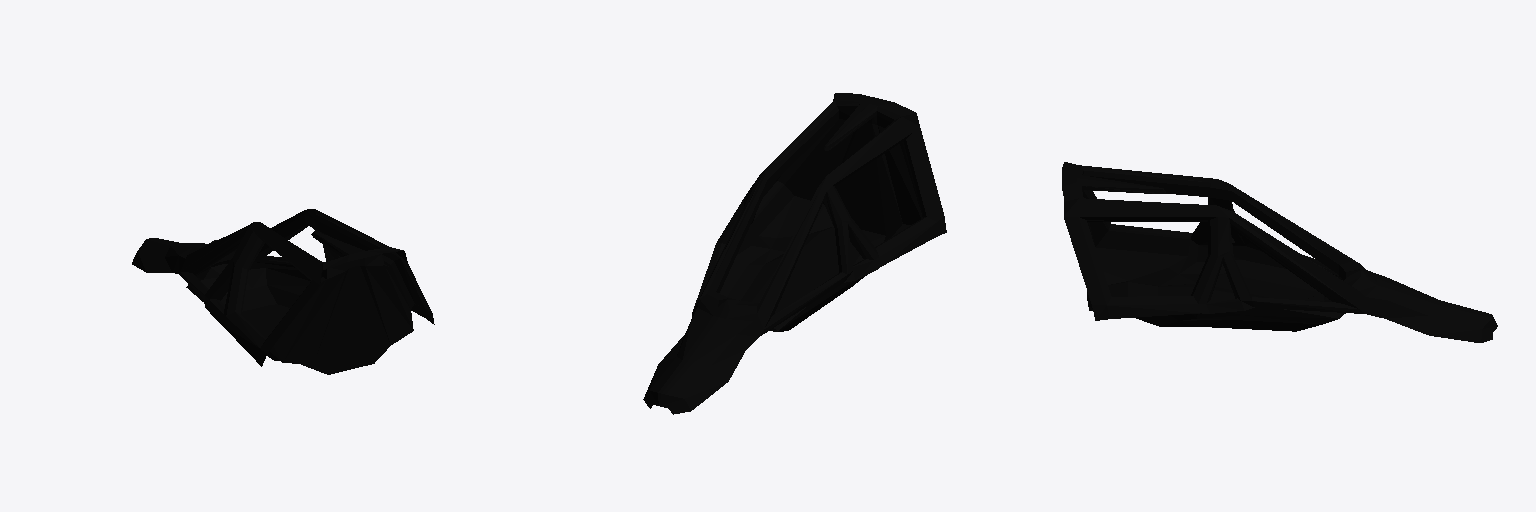
Rendered from cockpit.obj.
3 renders of one model, left to right at view 1: azimuth 30°, elevation 25°; view 2: azimuth 150°, elevation 25°; view 3: azimuth 270°, elevation 25°, orthographic.
Parts seen in each view (by area): view 1: Cube.002_Cube.001; view 2: Cube.002_Cube.001; view 3: Cube.002_Cube.001.
Part boxes in pixels (x1,y1,x2,y2): Cube.002_Cube.001: (132, 209, 434, 374); Cube.002_Cube.001: (643, 93, 946, 414); Cube.002_Cube.001: (1062, 162, 1497, 342).
Bounding box in the file's own units: 2.62 × 2.25 × 5.72.